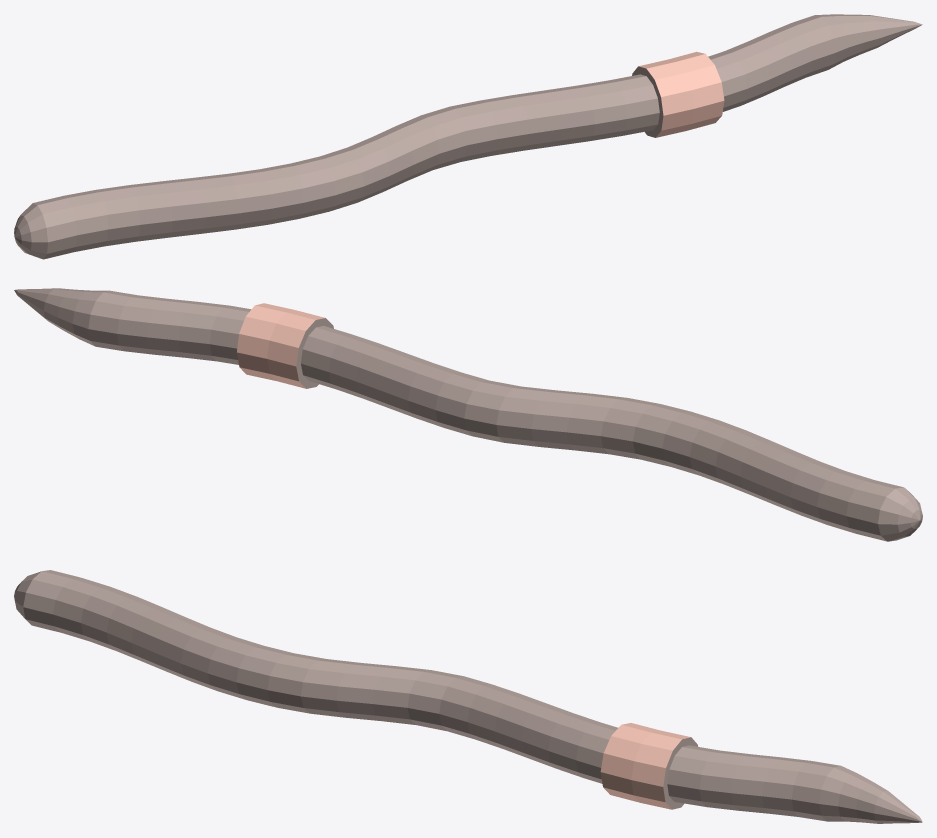
File: worm.fbx
3 views of the same model, one above another, from view 1: azimuth 30°, elevation 25°; view 2: azimuth 150°, elevation 25°; view 3: azimuth 330°, elevation 25° (orthographic).
Visible parts, largest first — view 1: Cylinder; view 2: Cylinder; view 3: Cylinder.
Boxes of the visible parts, x1,y1,x2,y2 form: Cylinder: (14, 14, 922, 259); Cylinder: (14, 288, 922, 541); Cylinder: (14, 570, 922, 823).
Bounding box in the file's own units: 3652 × 257 × 369.
